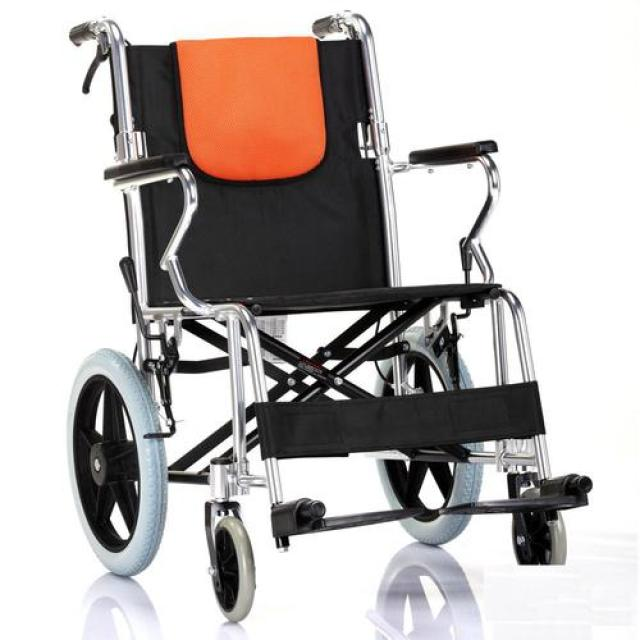wheelchairs: (33, 6, 594, 626)
